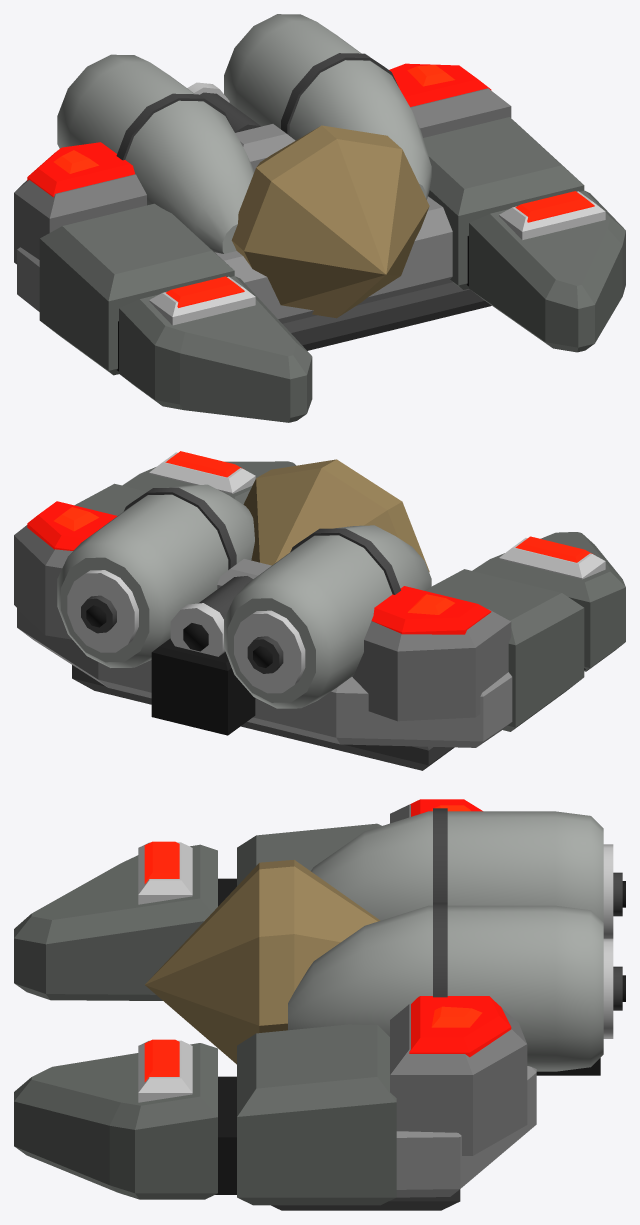
The model's file is microsol-frontblaster.glb.
The picture shows the model from 3 angles, top to bottom: view 1: azimuth 30°, elevation 25°; view 2: azimuth 150°, elevation 25°; view 3: azimuth 270°, elevation 25°; orthographic projection. The views are drawn at different scales.
Parts seen in each view (by area): view 1: sidekick-microsol-frontblaster; view 2: sidekick-microsol-frontblaster; view 3: sidekick-microsol-frontblaster.
Boxes of the visible parts, <box> form: sidekick-microsol-frontblaster: <box>14,14,625,422</box>; sidekick-microsol-frontblaster: <box>14,451,625,770</box>; sidekick-microsol-frontblaster: <box>14,799,625,1210</box>.
Size of the model in its own units: 1.67 by 0.7375 by 1.6.
